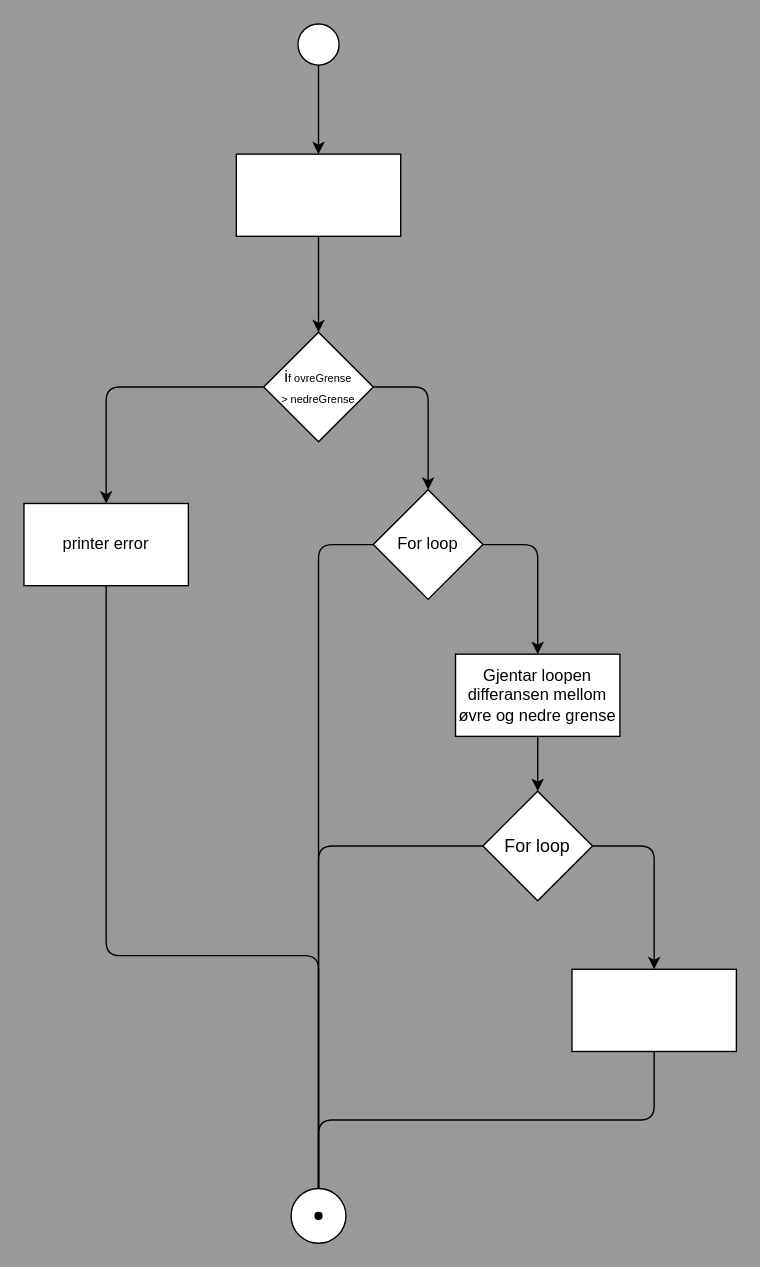
This 760x1267 diagram has some shape labels left out. The centre of each missing label's shape, as x and y in pixels:
Gjentar loopen 10 ganger: point (653, 1009)
Input fra bruker: point (318, 194)
